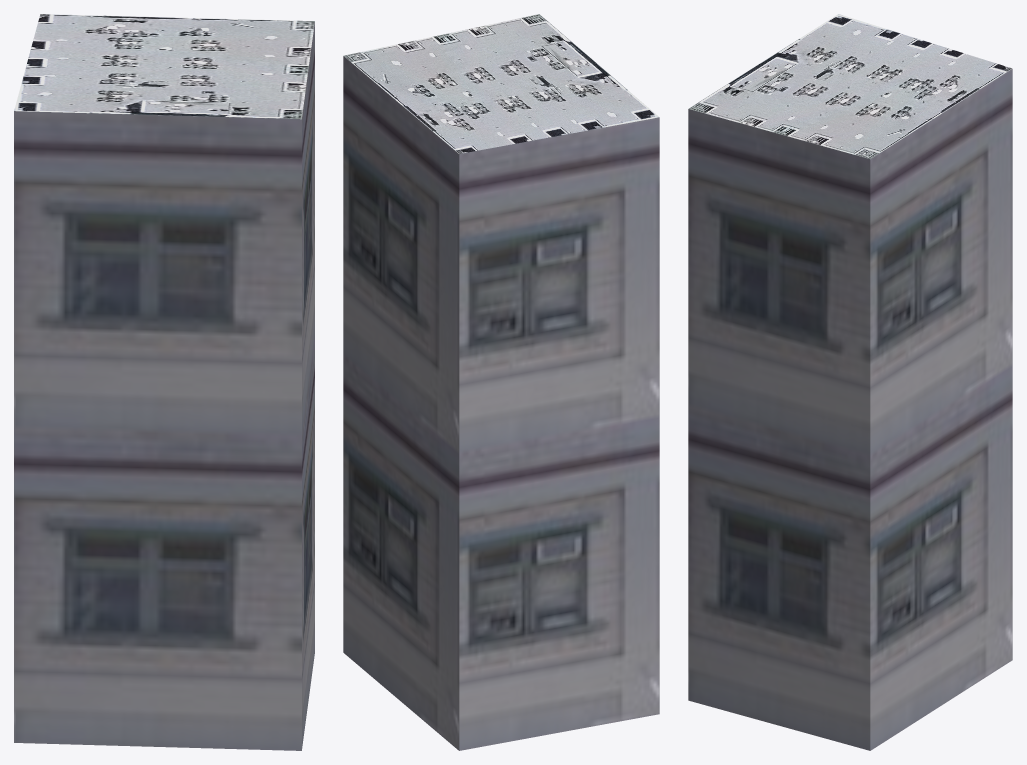
Rendered from ResTex__3782.fbx.
The picture shows the model from 3 angles, left to right: view 1: azimuth 30°, elevation 25°; view 2: azimuth 150°, elevation 25°; view 3: azimuth 270°, elevation 25°; orthographic projection. The views are drawn at different scales.
Visible parts, largest first — view 1: CityEngineMaterial_1_m, CityEngineMaterial_m; view 2: CityEngineMaterial_1_m, CityEngineMaterial_m; view 3: CityEngineMaterial_1_m, CityEngineMaterial_m.
Part boxes in pixels (x1,y1,x2,y2): CityEngineMaterial_1_m: (14,22,314,750); CityEngineMaterial_m: (14,14,314,119); CityEngineMaterial_1_m: (343,56,659,750); CityEngineMaterial_m: (343,14,658,153); CityEngineMaterial_1_m: (688,69,1012,750); CityEngineMaterial_m: (688,14,1012,159).
Bounding box in the file's own units: 3.16 × 6 × 2.98.
Materials: 2 (2 with a texture image).
